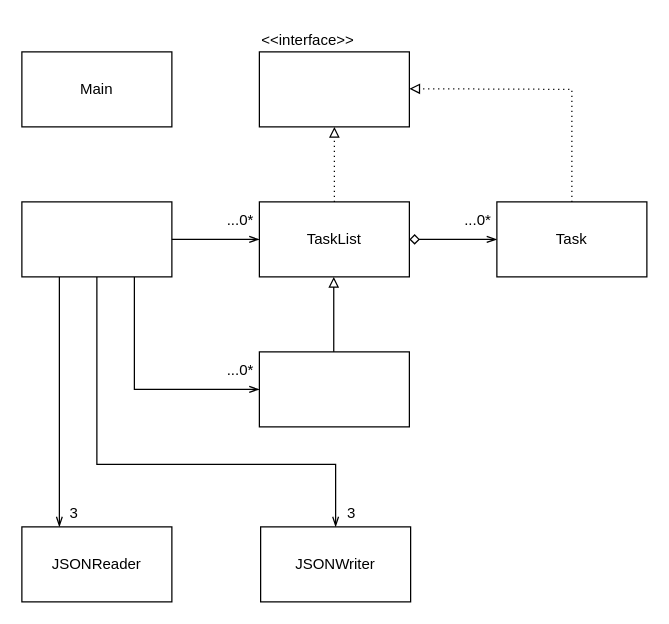
This 669x624 diagram has some shape labels left out. The shapes that lost their labels are listed below. From the top down, each one's box as (x1, y1, x2, y2) in pixels, then its label:
(258, 51, 409, 127): Writeable
(21, 201, 172, 277): PomoFrame
(258, 351, 409, 427): Completed TaskList
